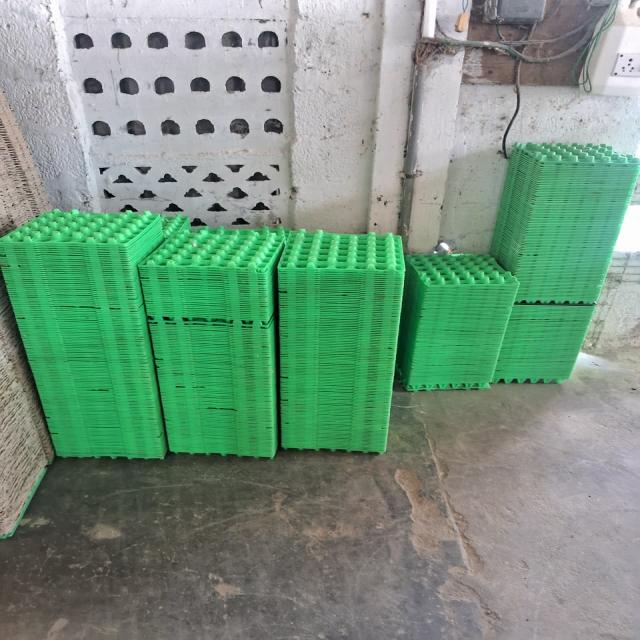egg_tray: (66, 19, 291, 154), (97, 156, 289, 226), (105, 159, 105, 161)
